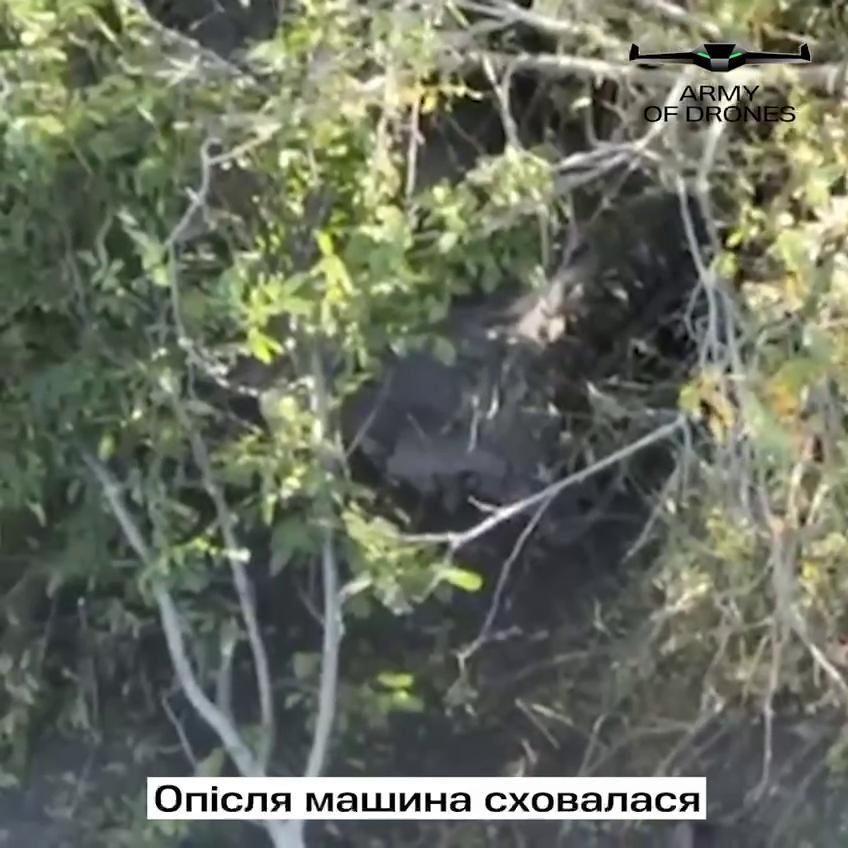tank: (315, 281, 598, 552)
